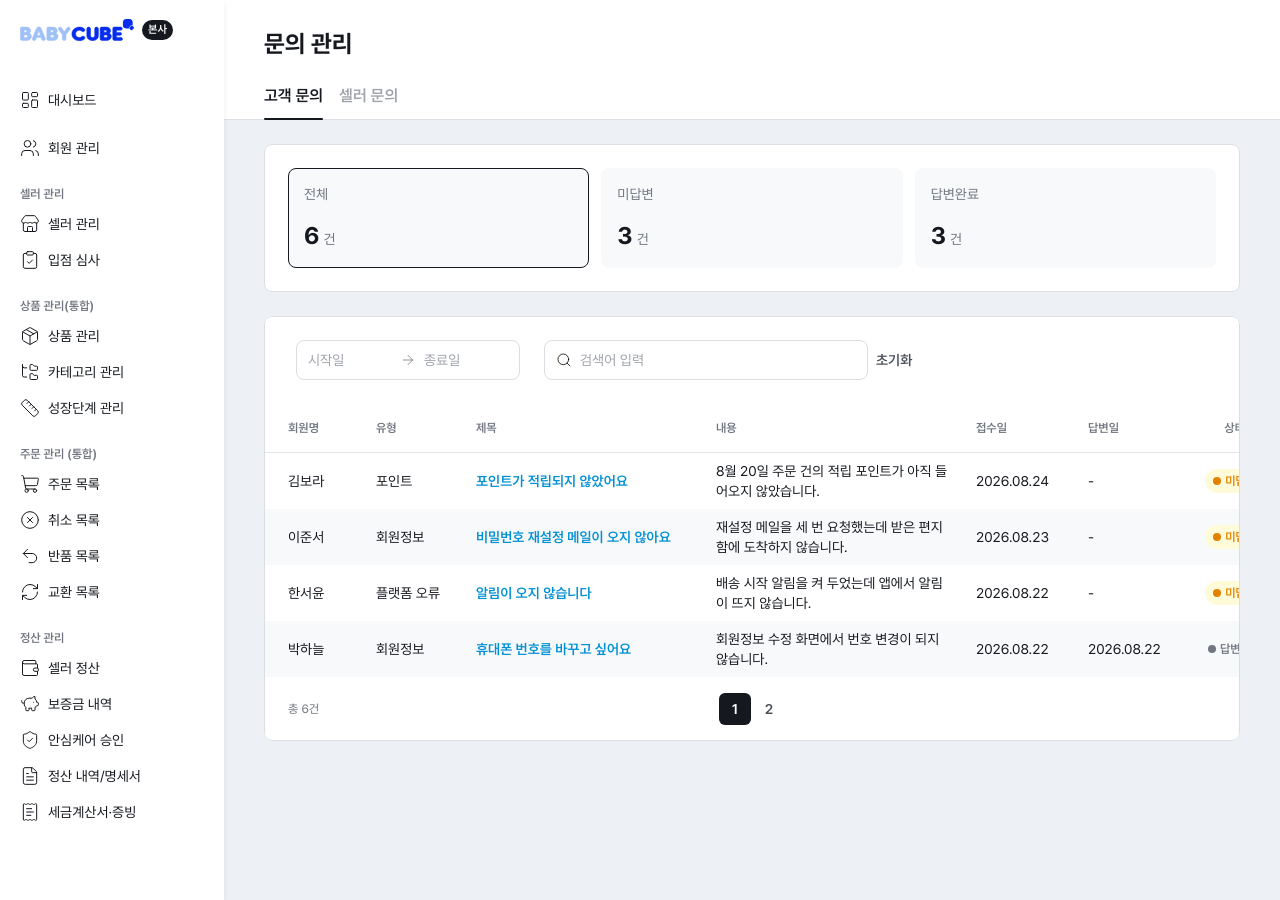
Test: SupportListPage › 고객 탭 — 상태 대시가 유일한 상태 컨트롤 › 누르면 그 상태로 좁혀진다
What coordinates should you click on to do the following:
click the button "미답변 3 건"
I would click on:
 (635, 194)
Its box is [601,168,903,268].
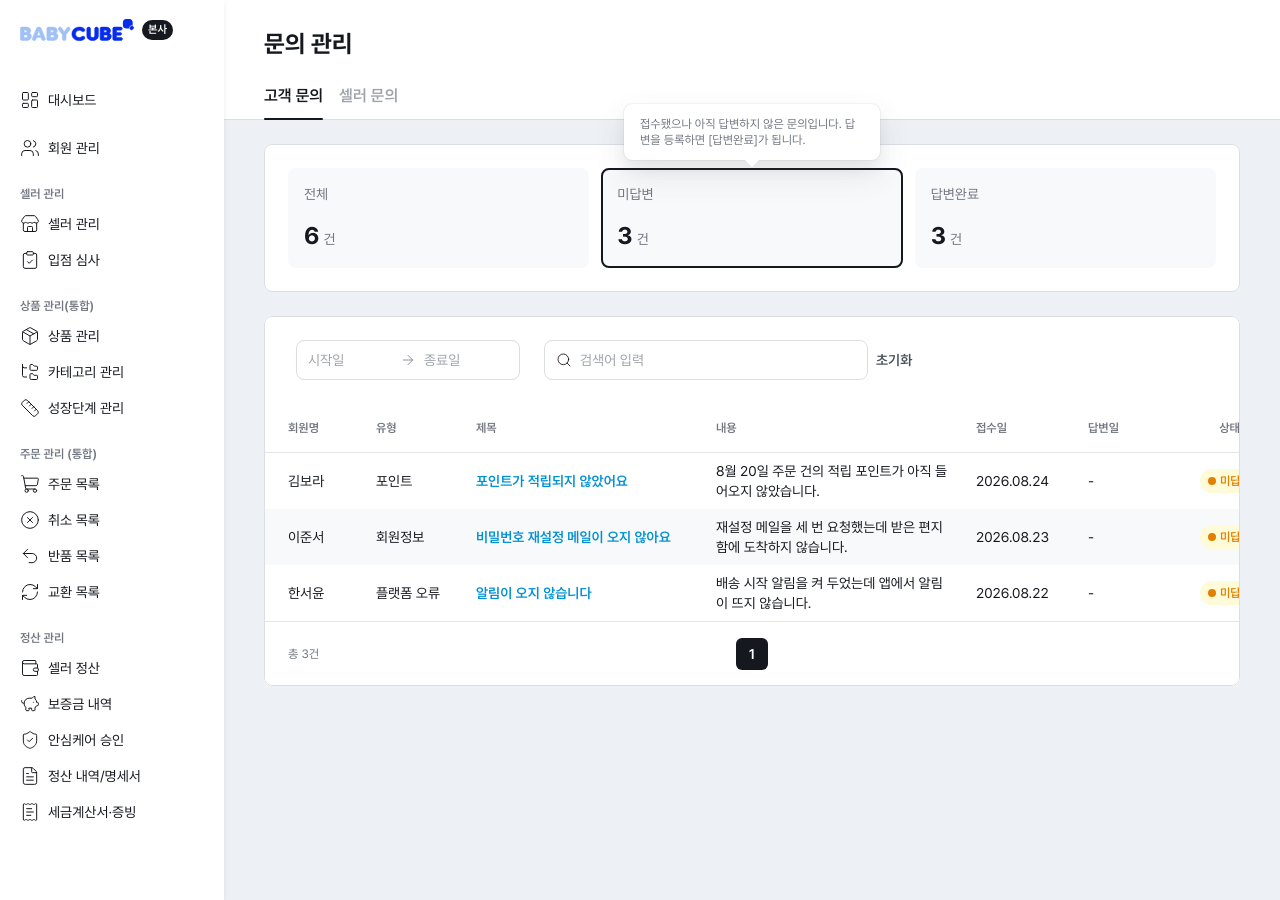
Expected: the text "미답변" is shown, [617,184,654,204]
Result: the text "총 3건" is shown at [288,646,319,662]
